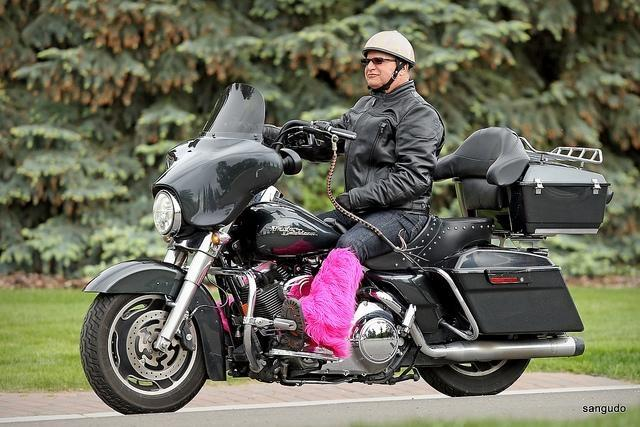motorcycle: (78, 82, 616, 414)
